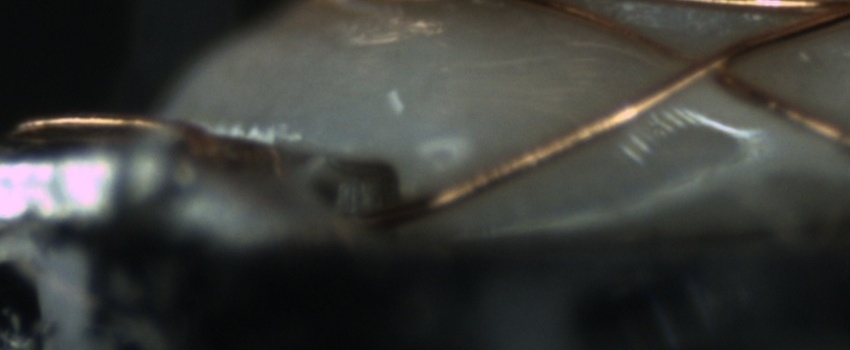CL: (660, 37, 748, 93)
TE: (10, 110, 270, 174)
